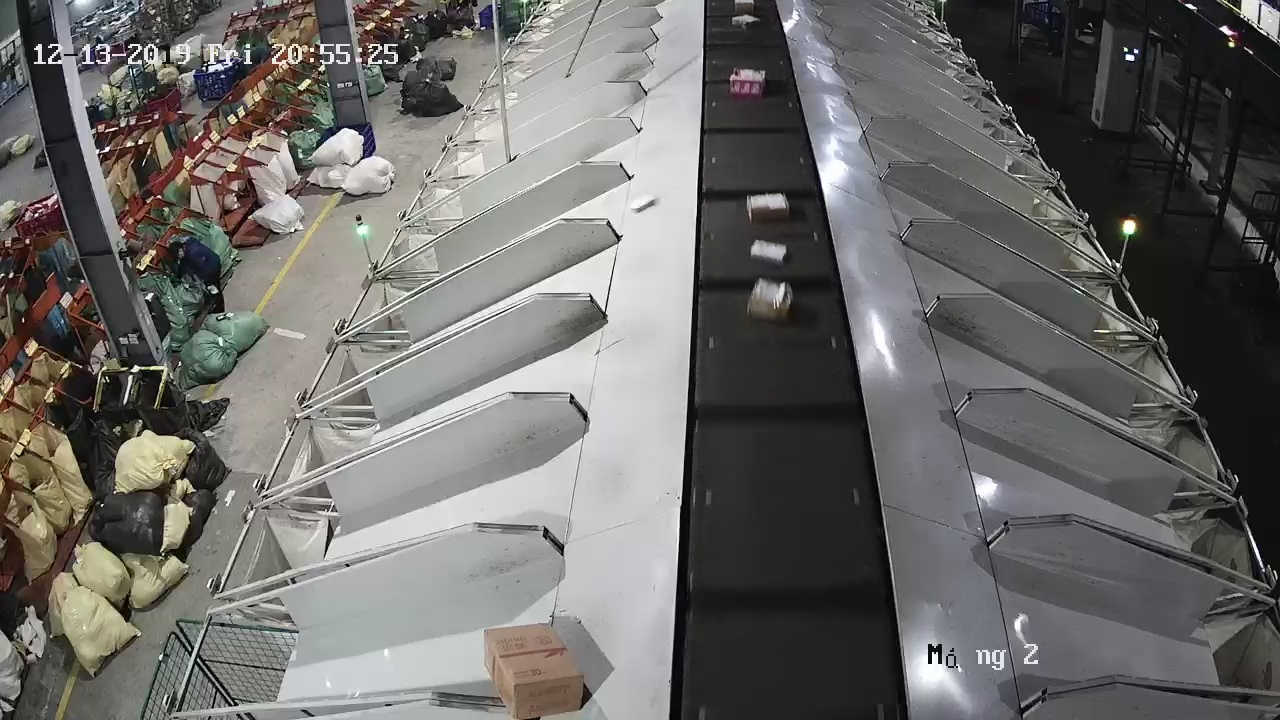parcel: (628, 192, 657, 211)
